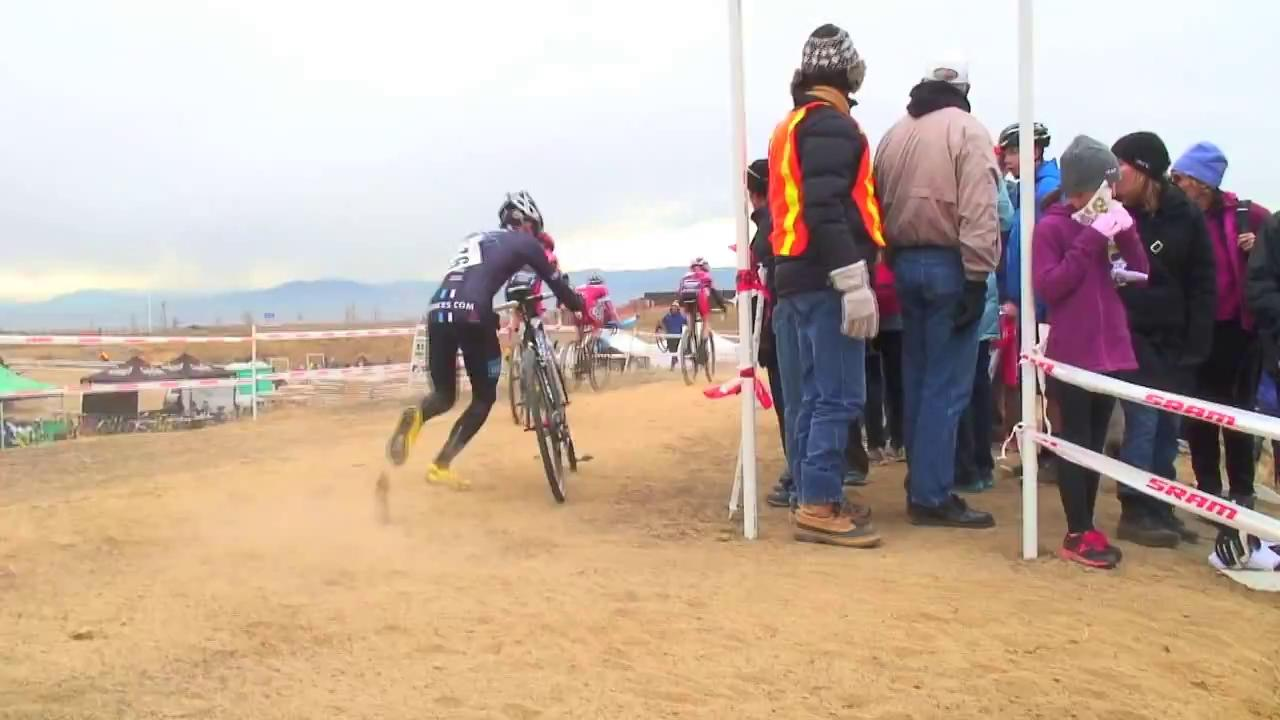victim: (750, 21, 910, 556), (868, 56, 1014, 538), (381, 191, 592, 496), (1034, 134, 1150, 578), (1098, 127, 1212, 547), (1159, 135, 1276, 525), (984, 109, 1066, 498), (651, 295, 694, 374)
